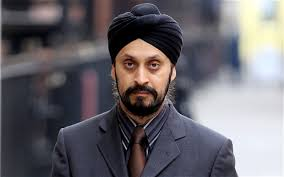helmet: (101, 5, 188, 118)
